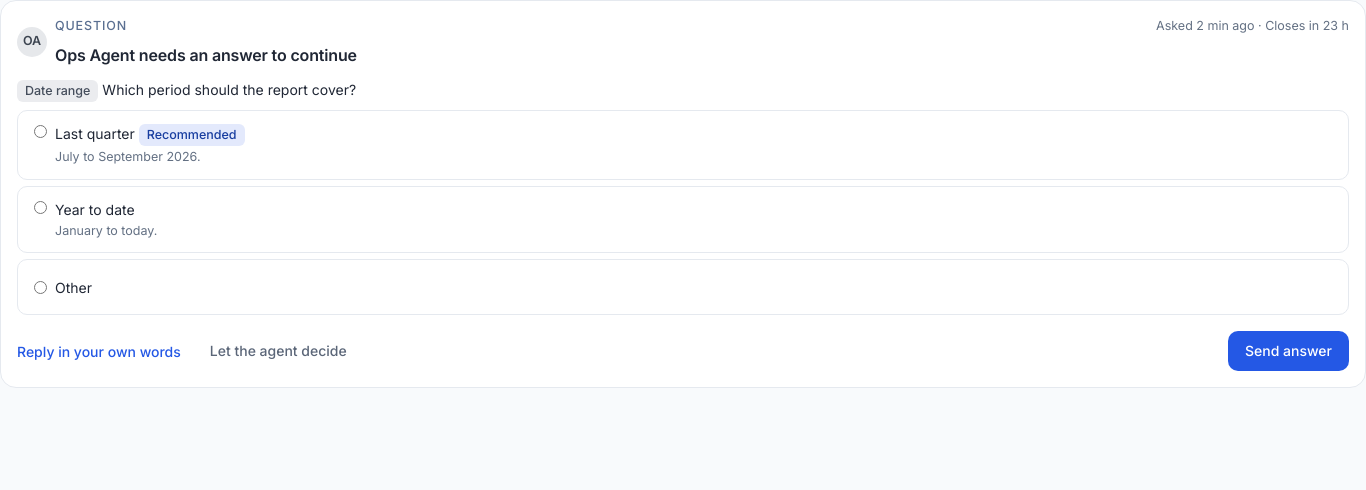
Test: QuestionCard, open state › shows the composer wording when a gap is left in Chat
The image size is (1366, 490).
Click the button "Send answer" at (1288, 351), box [1228,331,1349,371]
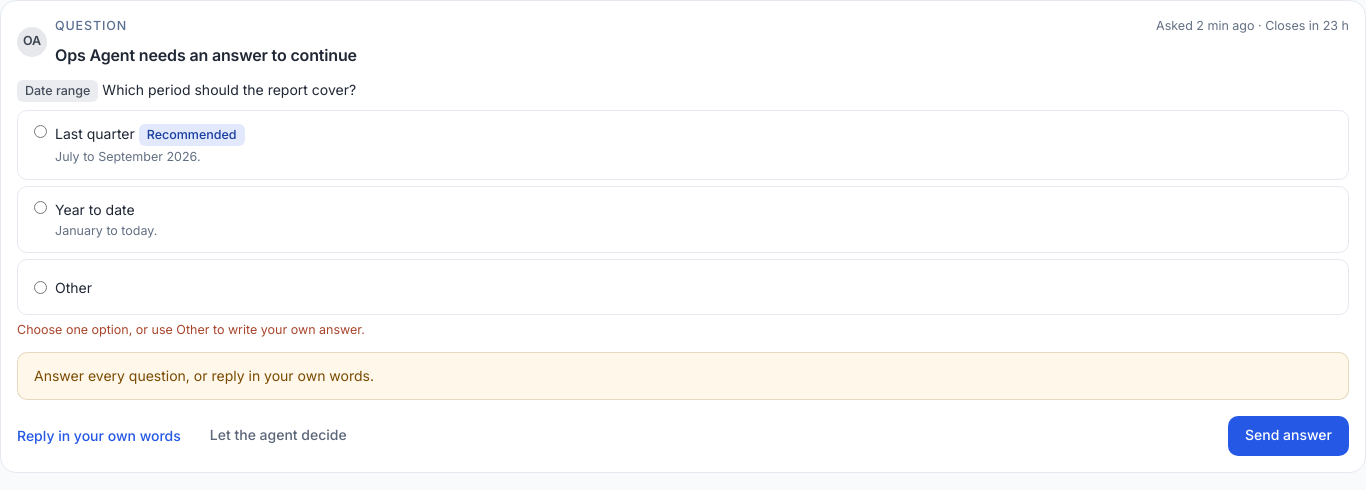
Check: the text "Answer every question, or reply in your own words." is shown, box [34,367,374,384]
